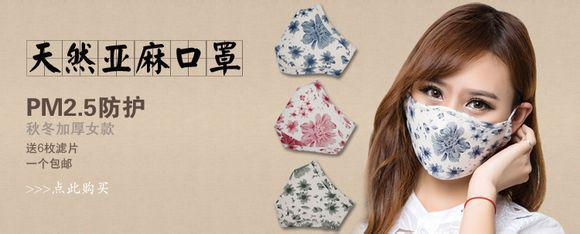OK: (412, 73, 513, 181)
